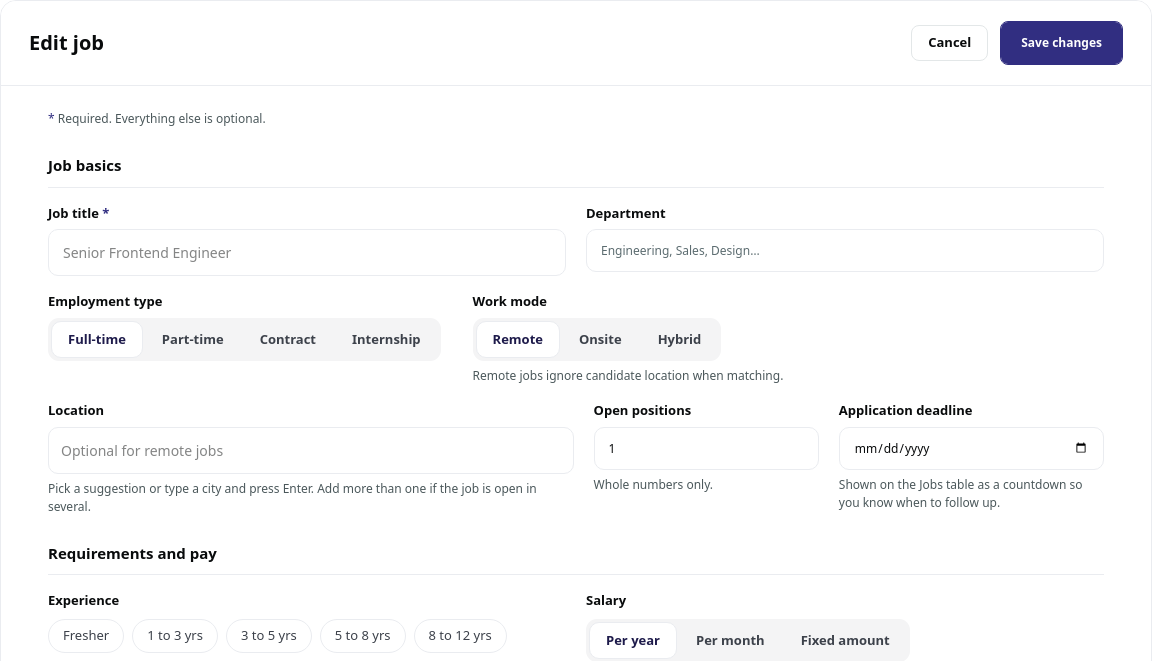
RequirementForm (edit) › lists every problem when saving an invalid form
The width and height of the screenshot is (1152, 661).
Click the button "Save changes". click: click(1062, 43)
box: [1000, 21, 1123, 65]
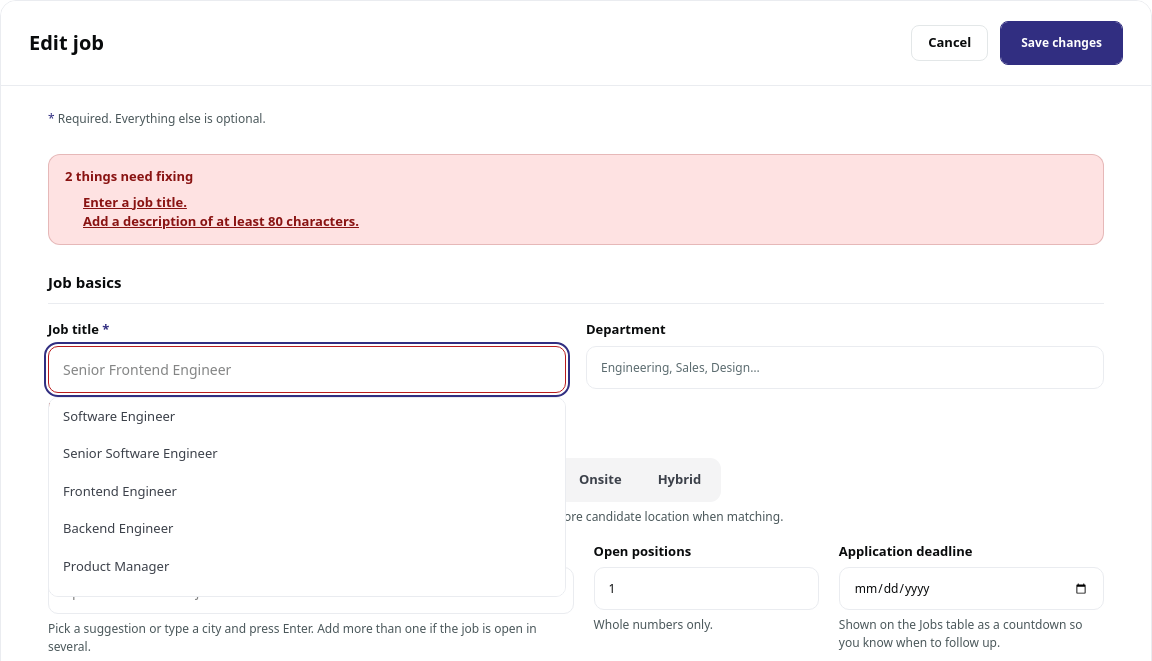
Check: the message shows "2 things need fixing", box [65, 167, 193, 185]
